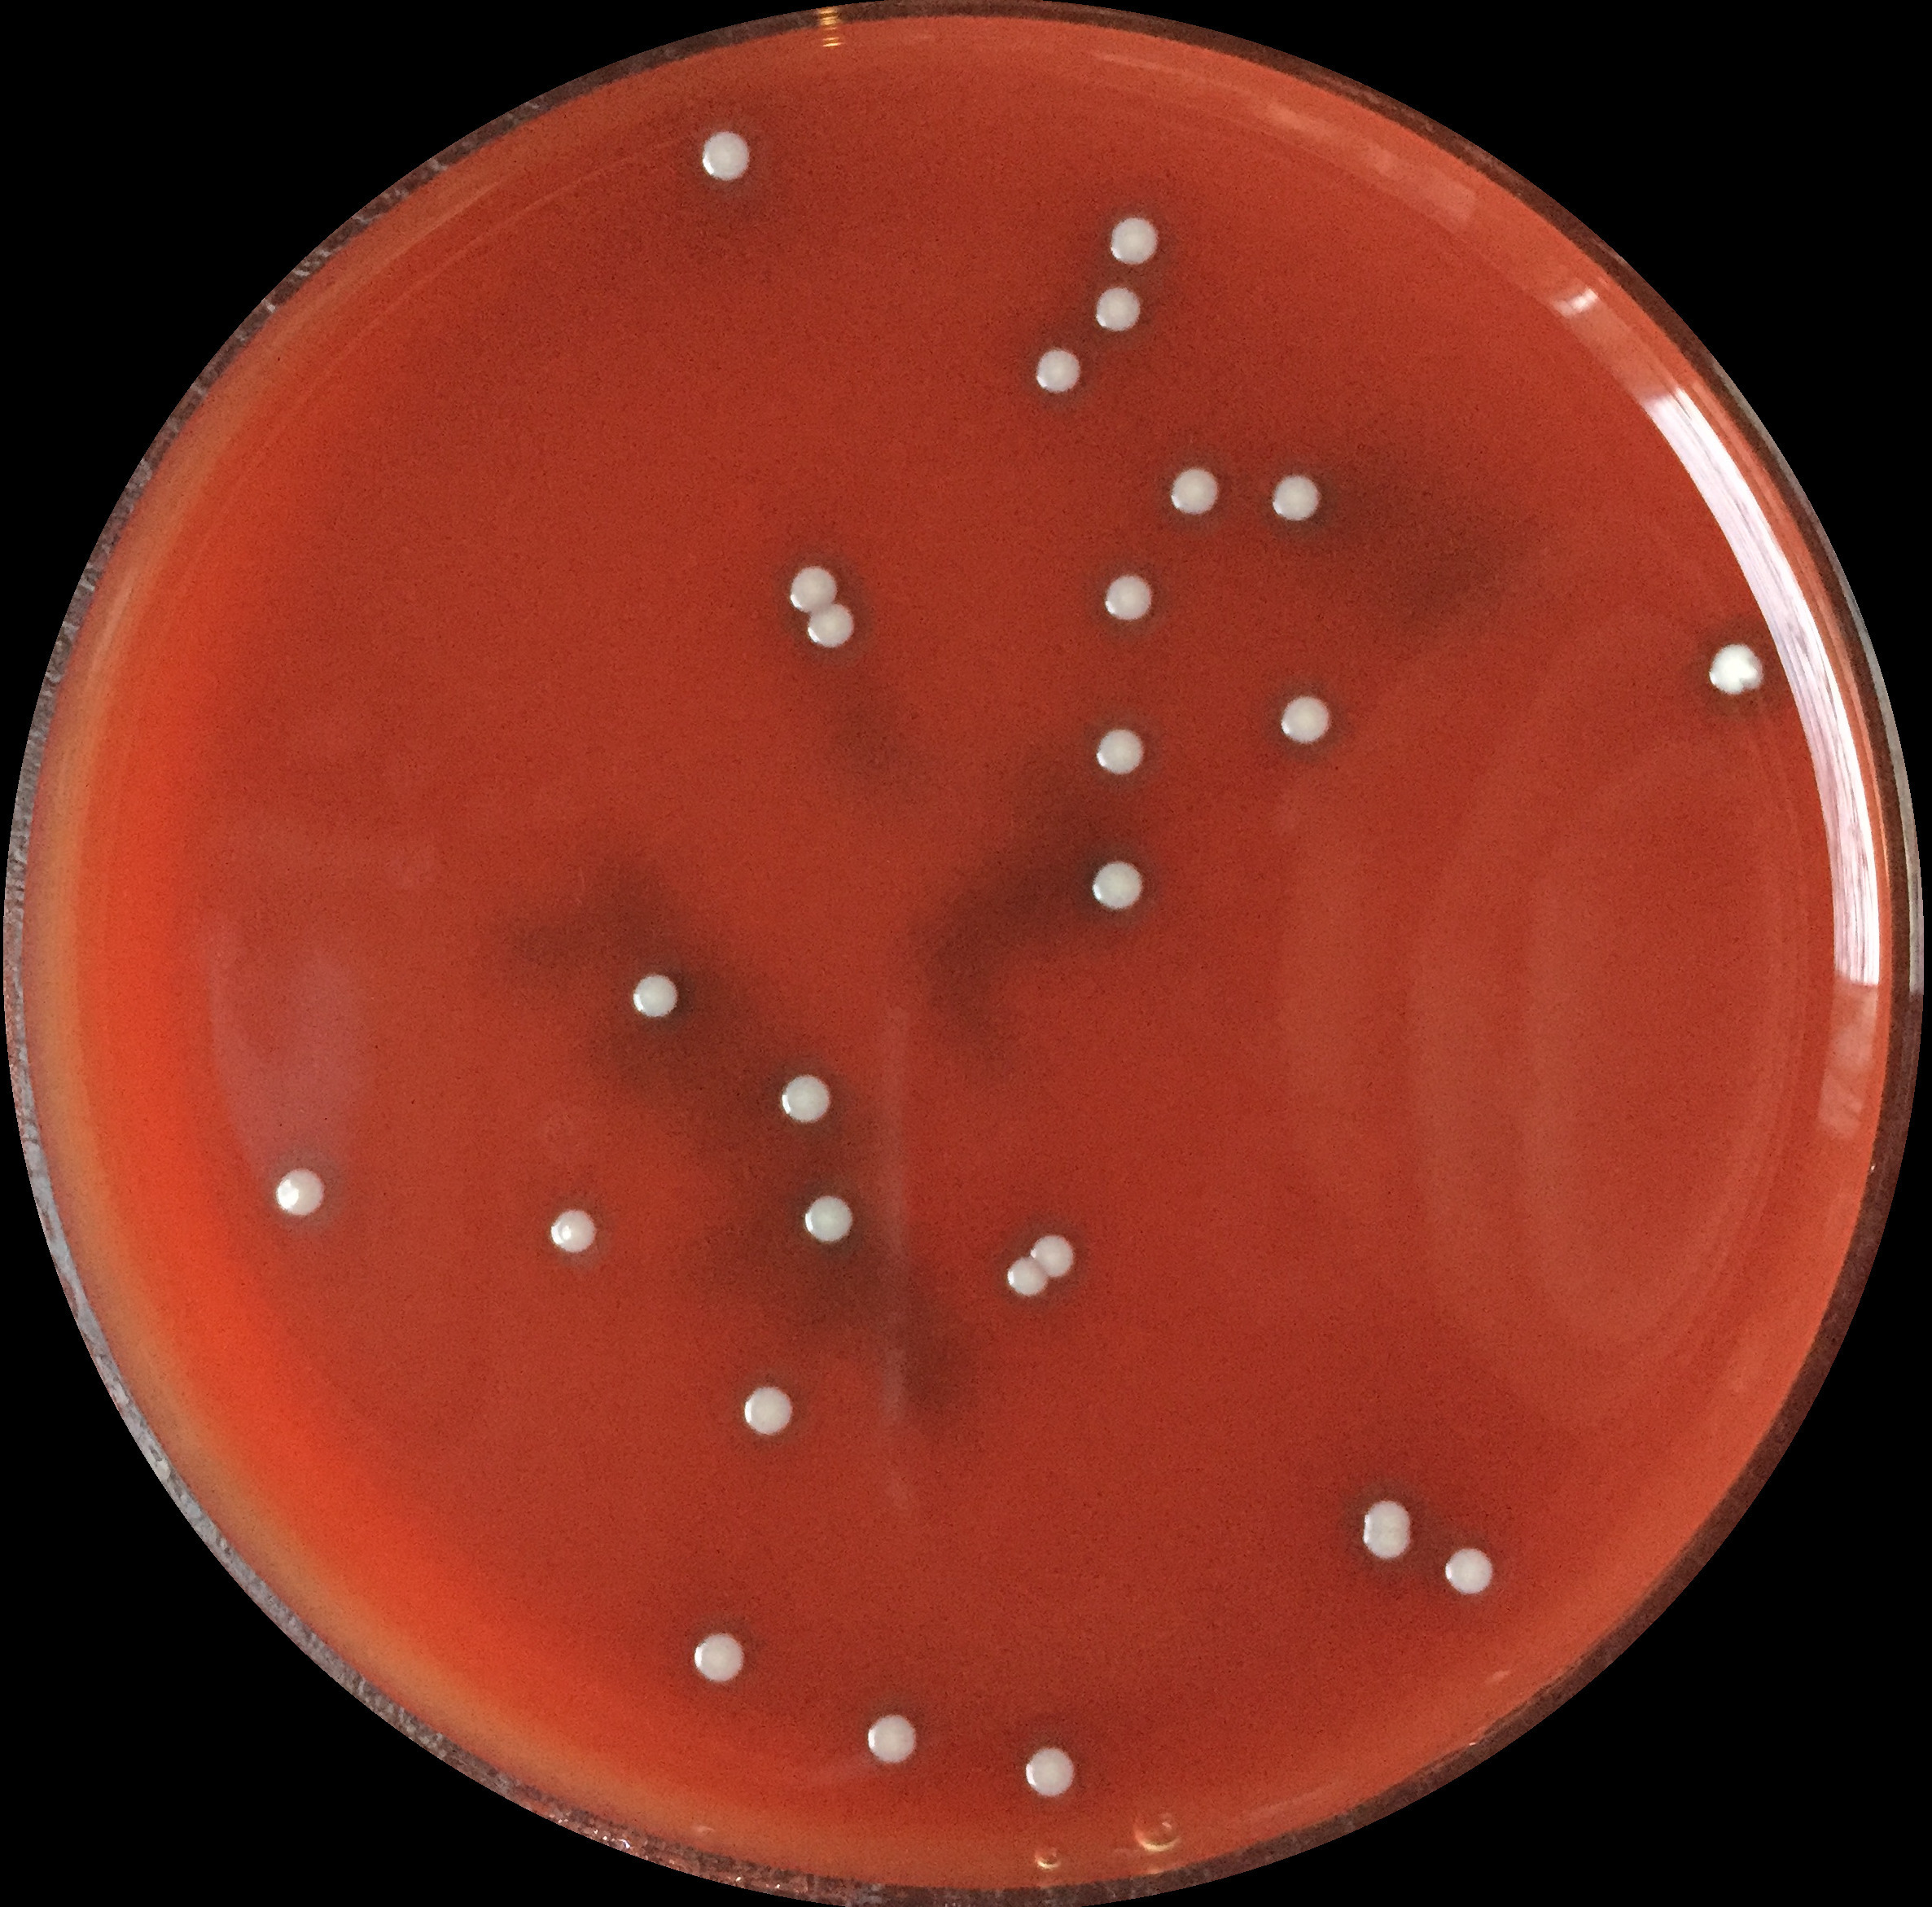sp21: (538, 1198, 611, 1268), (1162, 459, 1233, 527), (1013, 1743, 1083, 1811), (690, 127, 762, 192), (1700, 637, 1773, 700), (1359, 1497, 1422, 1568), (1261, 463, 1326, 531), (267, 1163, 335, 1224), (1087, 279, 1151, 342), (1088, 721, 1151, 786), (1024, 344, 1090, 405), (1083, 857, 1149, 919), (688, 1629, 758, 1687), (1439, 1539, 1502, 1601), (1095, 564, 1160, 625), (781, 557, 847, 615), (856, 1711, 931, 1762), (802, 599, 866, 657), (774, 1072, 835, 1132), (797, 1189, 861, 1245), (1272, 688, 1331, 747), (735, 1385, 798, 1441), (622, 966, 683, 1022), (1106, 211, 1160, 271), (1003, 1250, 1053, 1303), (1027, 1228, 1080, 1278)
